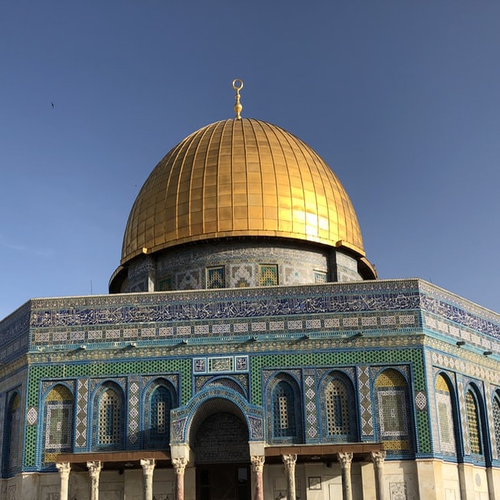Mosque: (6, 77, 496, 488)
